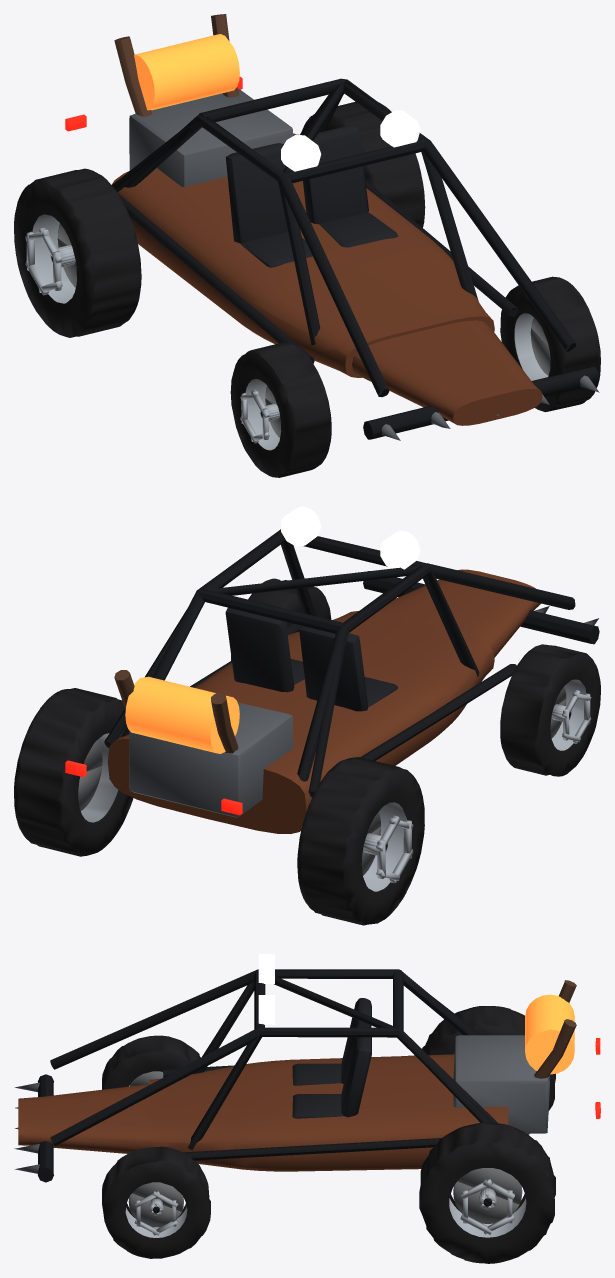
Rendered from raider-buggy-lod.glb.
The picture shows the model from 3 angles, top to bottom: view 1: azimuth 30°, elevation 25°; view 2: azimuth 150°, elevation 25°; view 3: azimuth 270°, elevation 25°; orthographic projection. The views are drawn at different scales.
Visible parts, largest first — view 1: Body, WheelRL, WheelFL, WheelFR, WheelRR; view 2: Body, WheelRL, WheelRR, WheelFL, WheelFR; view 3: Body, WheelRR, WheelFR, WheelFL, WheelRL.
Boxes of the visible parts, x1,y1,x2,y2 form: Body: [65, 14, 599, 440]; WheelRL: [14, 168, 141, 337]; WheelFL: [230, 342, 331, 477]; WheelFR: [500, 276, 600, 412]; WheelRR: [301, 101, 425, 227]; Body: [65, 506, 599, 833]; WheelRL: [297, 757, 424, 925]; WheelRR: [14, 688, 133, 856]; WheelFL: [500, 644, 600, 776]; WheelFR: [231, 578, 331, 660]; Body: [14, 954, 600, 1182]; WheelRR: [419, 1122, 555, 1263]; WheelFR: [102, 1146, 210, 1258]; WheelFL: [102, 1035, 200, 1089]; WheelRL: [422, 1006, 555, 1134].
Bounding box in the file's own units: 2.52 × 1.77 × 4.25.
